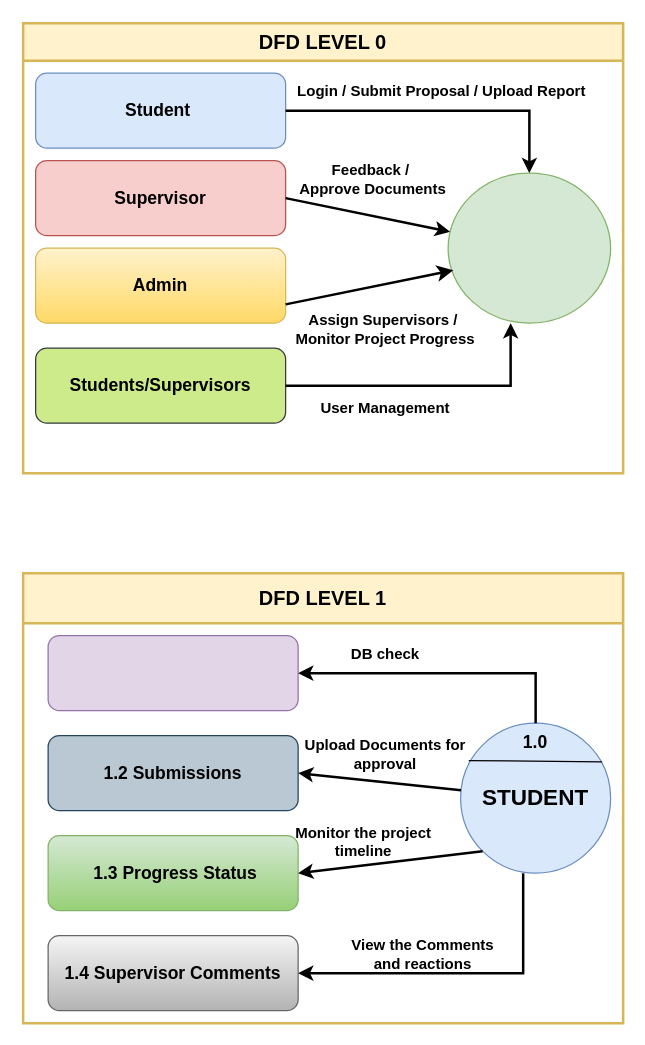
The diagram is 645 pixels wide and 1045 high, and some of its shapes have lost their labels. Here are the shapes that lost their labels. From the top down, the centre of each, then its label:
point (529, 247): FYPMS
point (172, 672): 1.1 Authentication
